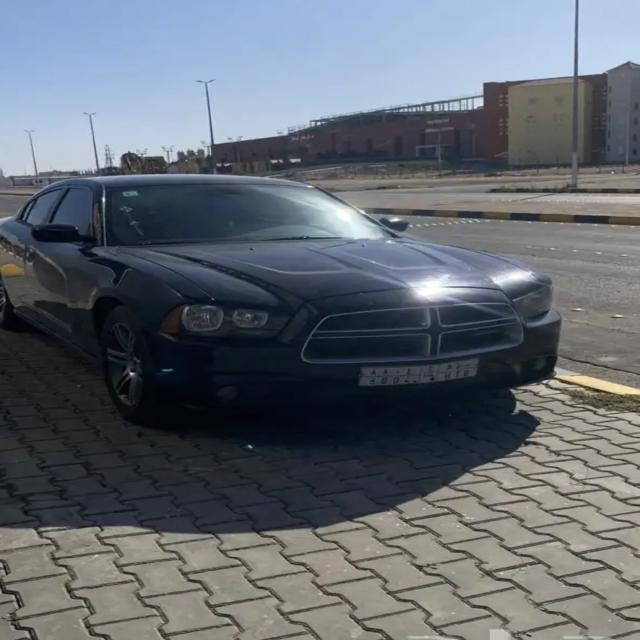license_plate: (358, 358, 482, 386)
